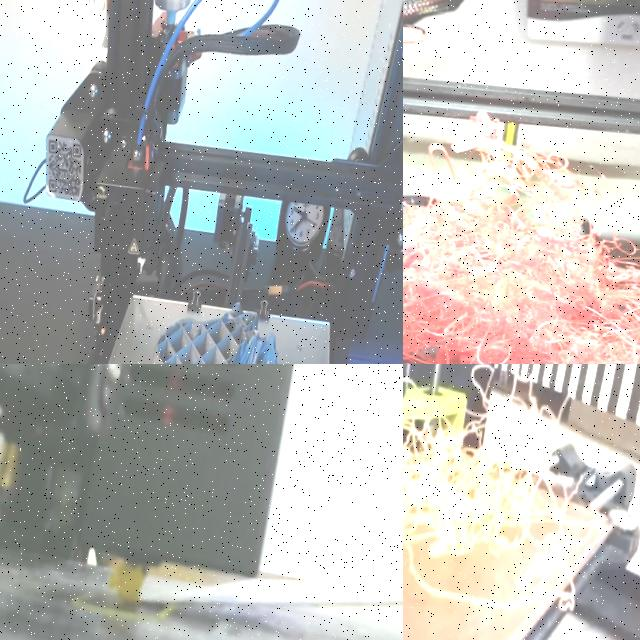spaghetti: (403, 364, 604, 636), (403, 145, 640, 364), (109, 560, 146, 604)
